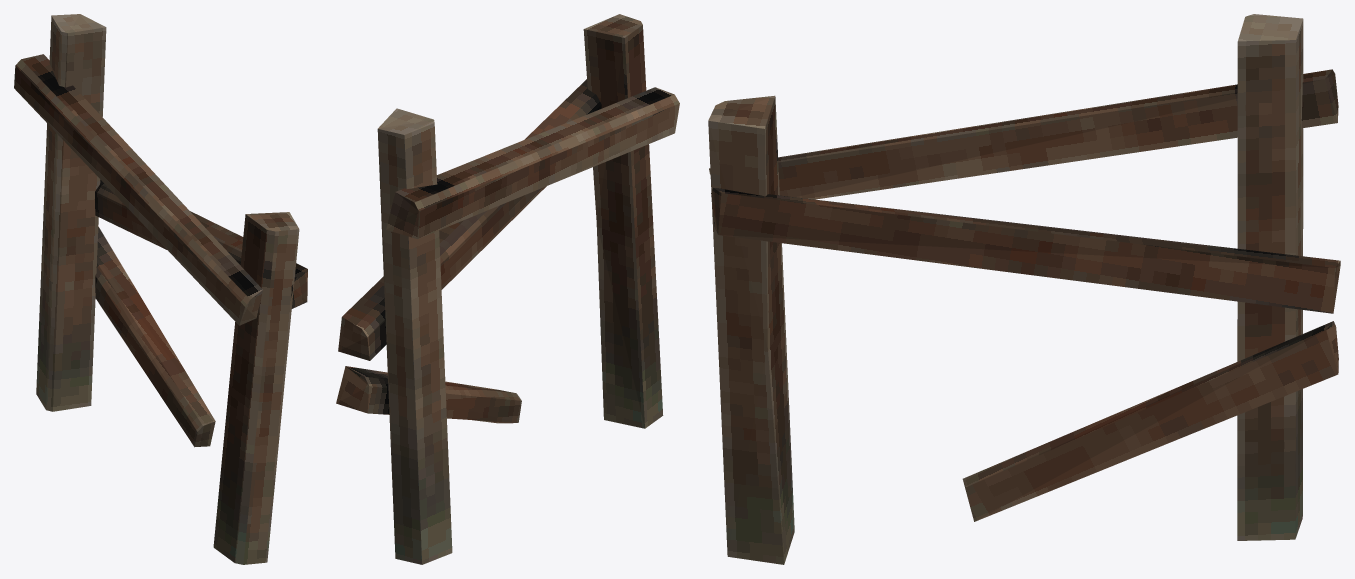
File: Fence_04.glb
The picture shows the model from 3 angles, left to right: view 1: azimuth 30°, elevation 25°; view 2: azimuth 150°, elevation 25°; view 3: azimuth 270°, elevation 25°; orthographic projection. The views are drawn at different scales.
Visible parts, largest first — view 1: Fence_04; view 2: Fence_04; view 3: Fence_04.
Part boxes in pixels (<box>): Fence_04: <box>14,14,307,564</box>; Fence_04: <box>336,14,679,564</box>; Fence_04: <box>708,14,1340,564</box>.
Size of the model in its own units: 0.6882 by 3.58 by 3.82.
Materials: 1 (1 with a texture image).
